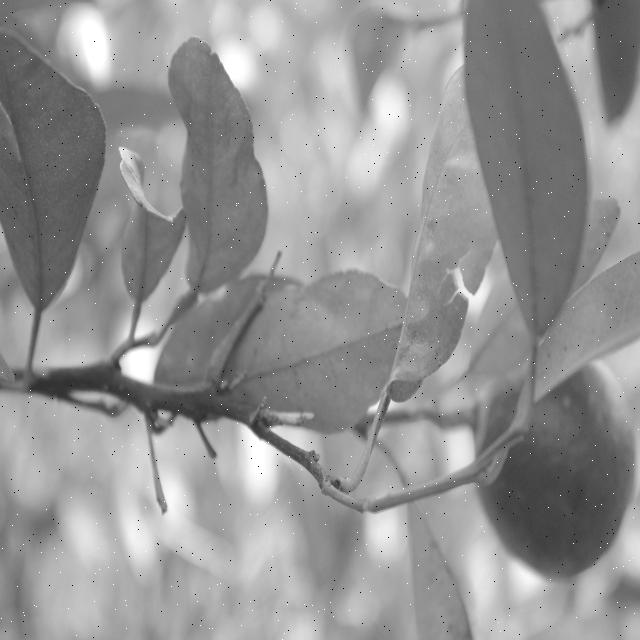greening: (180, 23, 264, 283)
